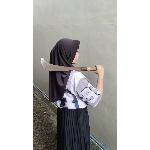Golok: (38, 55, 102, 75)
